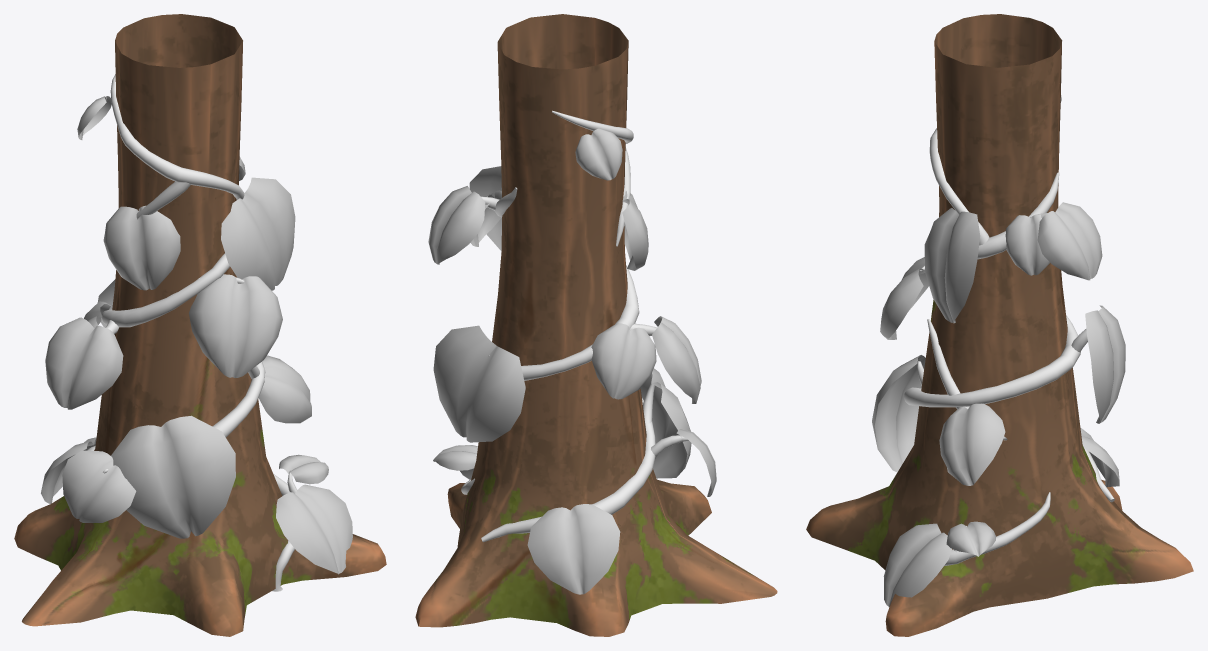
The model's file is Prop_TreeMonstera2.fbx.
3 views of the same model, side by side, from view 1: azimuth 30°, elevation 25°; view 2: azimuth 150°, elevation 25°; view 3: azimuth 270°, elevation 25° (orthographic). The views are drawn at different scales.
Visible parts, largest first — view 1: Bold_Tree03_L001, Treemonstera022, Treemonstera025, Treemonstera023, Treevine010, Treemonstera029, Treemonstera028, Treemonstera030, Treemonstera024, Treemonstera032, Treemonstera015, Treemonstera019 (+2 smaller); view 2: Bold_Tree03_L001, Treemonstera017, Treemonstera019, Treevine010, Treemonstera016, Treemonstera018, Treemonstera022, Treemonstera029, Treemonstera020, Treemonstera030, Treemonstera023, Treemonstera015 (+2 smaller); view 3: Bold_Tree03_L001, Treevine010, Treemonstera023, Treemonstera032, Treemonstera018, Treemonstera022, Treemonstera028, Treemonstera017, Treemonstera025, Treemonstera031, Treemonstera015, Prop_TreeMonstera2 (+2 smaller).
Boxes of the visible parts, x1,y1,x2,y2 form: Bold_Tree03_L001: [14, 14, 386, 636]; Treemonstera022: [111, 415, 235, 538]; Treemonstera025: [189, 274, 282, 377]; Treemonstera023: [221, 177, 295, 290]; Treevine010: [87, 74, 265, 450]; Treemonstera029: [45, 317, 123, 409]; Treemonstera028: [276, 484, 352, 574]; Treemonstera030: [103, 205, 180, 290]; Treemonstera024: [62, 450, 136, 522]; Treemonstera032: [258, 355, 311, 423]; Treemonstera015: [279, 454, 328, 484]; Treemonstera019: [41, 437, 96, 503]; Bold_Tree03_L001: [415, 14, 777, 636]; Treemonstera017: [433, 325, 525, 442]; Treemonstera019: [527, 504, 620, 594]; Treevine010: [481, 110, 655, 542]; Treemonstera016: [591, 323, 656, 399]; Treemonstera018: [428, 186, 485, 264]; Treemonstera022: [640, 368, 691, 478]; Treemonstera029: [652, 316, 701, 403]; Treemonstera020: [575, 128, 622, 180]; Treemonstera030: [622, 191, 648, 270]; Treemonstera023: [469, 166, 501, 251]; Treemonstera015: [433, 445, 477, 470]; Bold_Tree03_L001: [806, 14, 1193, 636]; Treevine010: [904, 128, 1114, 502]; Treemonstera023: [924, 208, 980, 323]; Treemonstera032: [939, 403, 1005, 485]; Treemonstera018: [1037, 202, 1102, 280]; Treemonstera022: [872, 355, 925, 472]; Treemonstera028: [883, 523, 951, 606]; Treemonstera017: [1085, 305, 1125, 423]; Treemonstera025: [880, 257, 928, 339]; Treemonstera031: [1005, 214, 1050, 275]; Treemonstera015: [946, 521, 995, 556]; Prop_TreeMonstera2: [944, 492, 1050, 565].
Bounding box in the file's own units: 3486 × 5155 × 3472.
